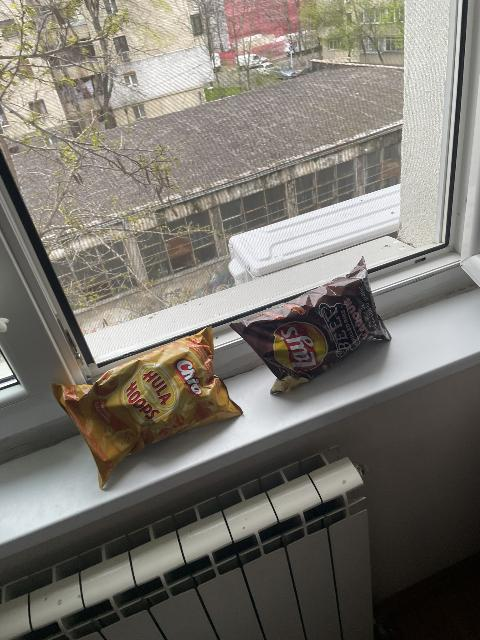Chio Hula Hoops Cheese 70g: (53, 331, 246, 485)
Lays Beef Grilled Ribs 125g: (224, 257, 389, 396)
